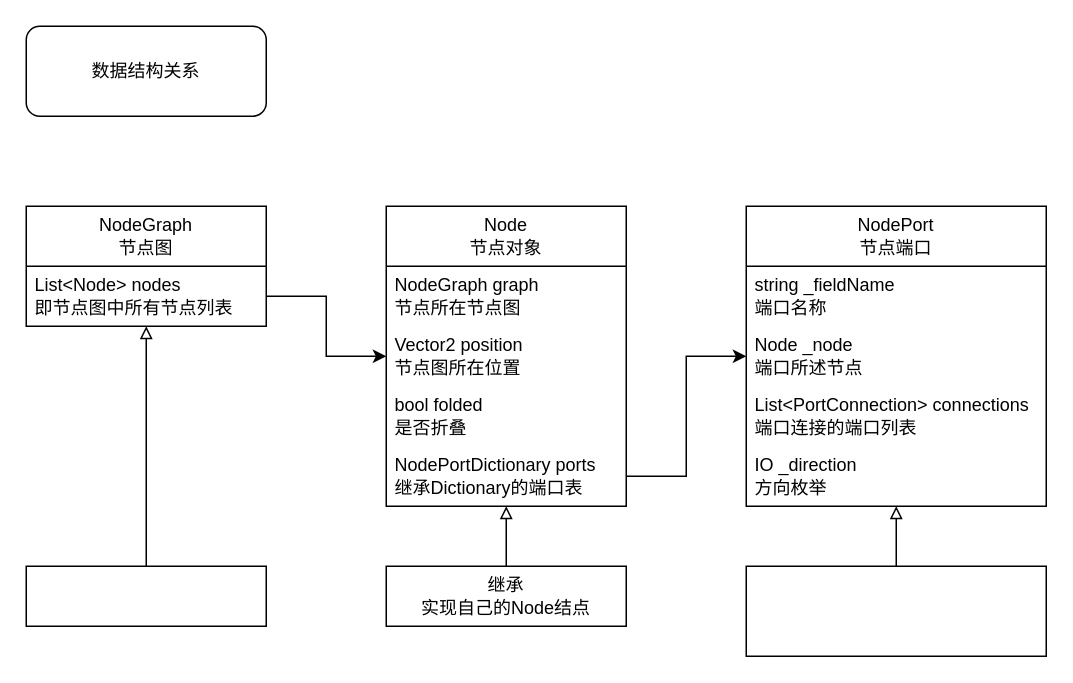
This 1073x683 diagram has some shape labels left out. Each missing label, with the centre of its shape:
一般不继承 Port的数据结构比较稳定: the point at 895,610
继承 实现自己的NodeGraph细节: the point at 145,595
